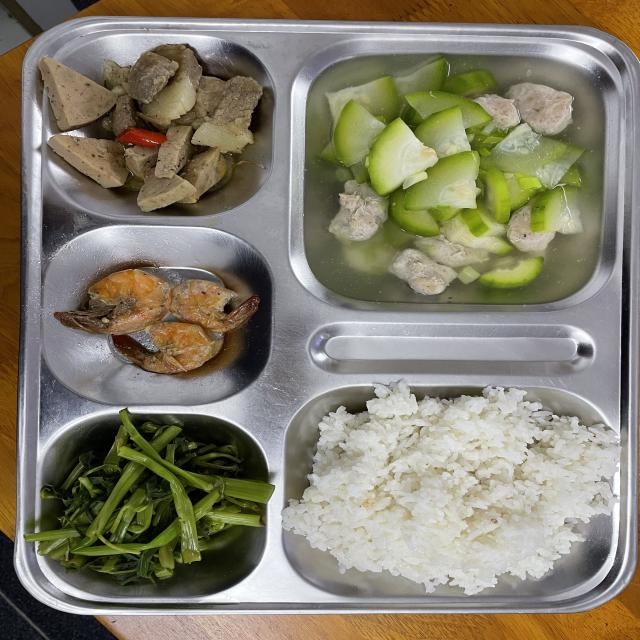canh bau: (302, 56, 612, 306)
com: (282, 382, 619, 595)
kho tieu: (42, 52, 272, 211)
rau muong: (25, 410, 273, 581)
tom: (55, 269, 171, 335), (111, 322, 224, 374), (169, 279, 260, 333)
